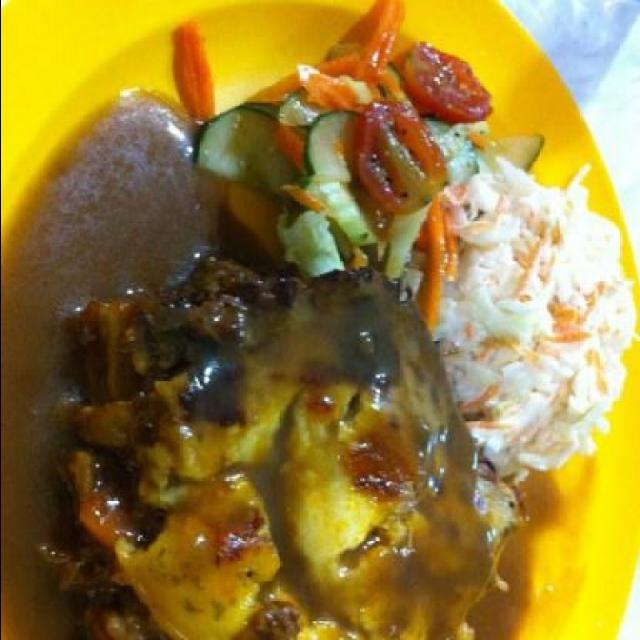Lasagna: (56, 295, 472, 639)
